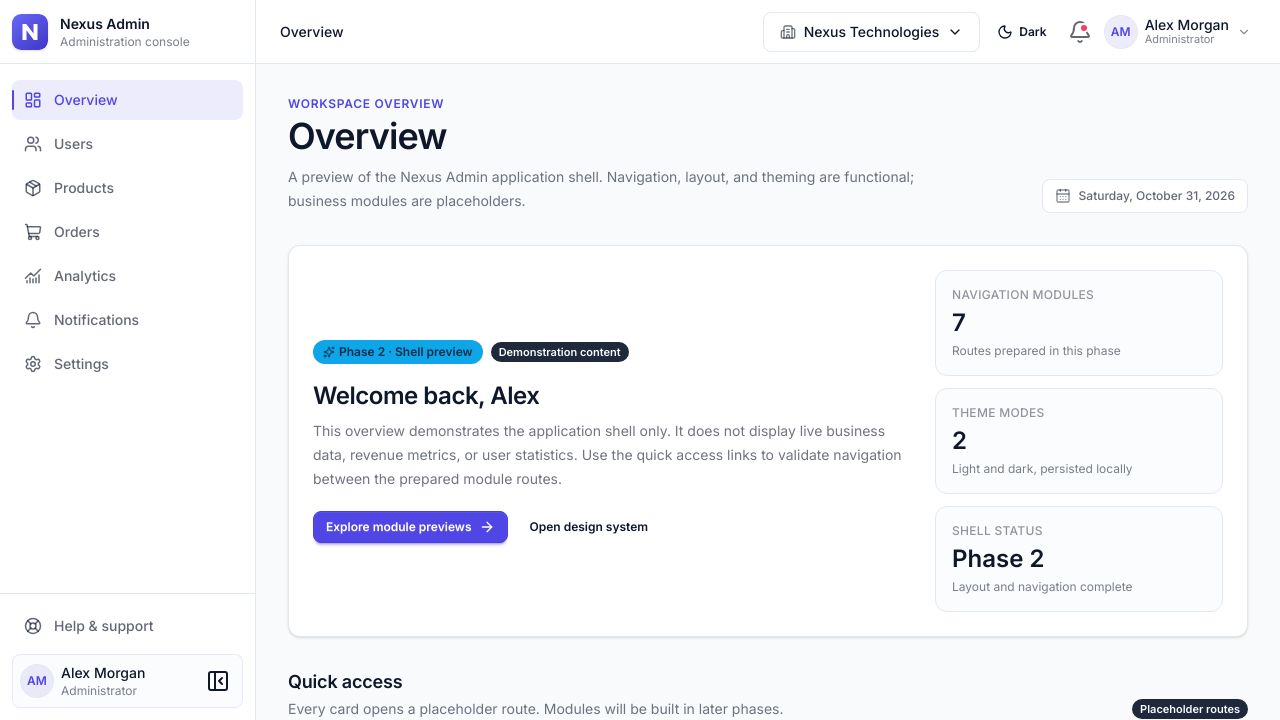
Test: DashboardLayout › opens and closes the profile menu with Escape
This screenshot has width=1280, height=720.
Expected: the heading "Overview" is shown, [288,114,447,158]
Click the button with aria-label "Open user menu for Alex Morgan".
click(1178, 32)  # box [1100,12,1256,52]
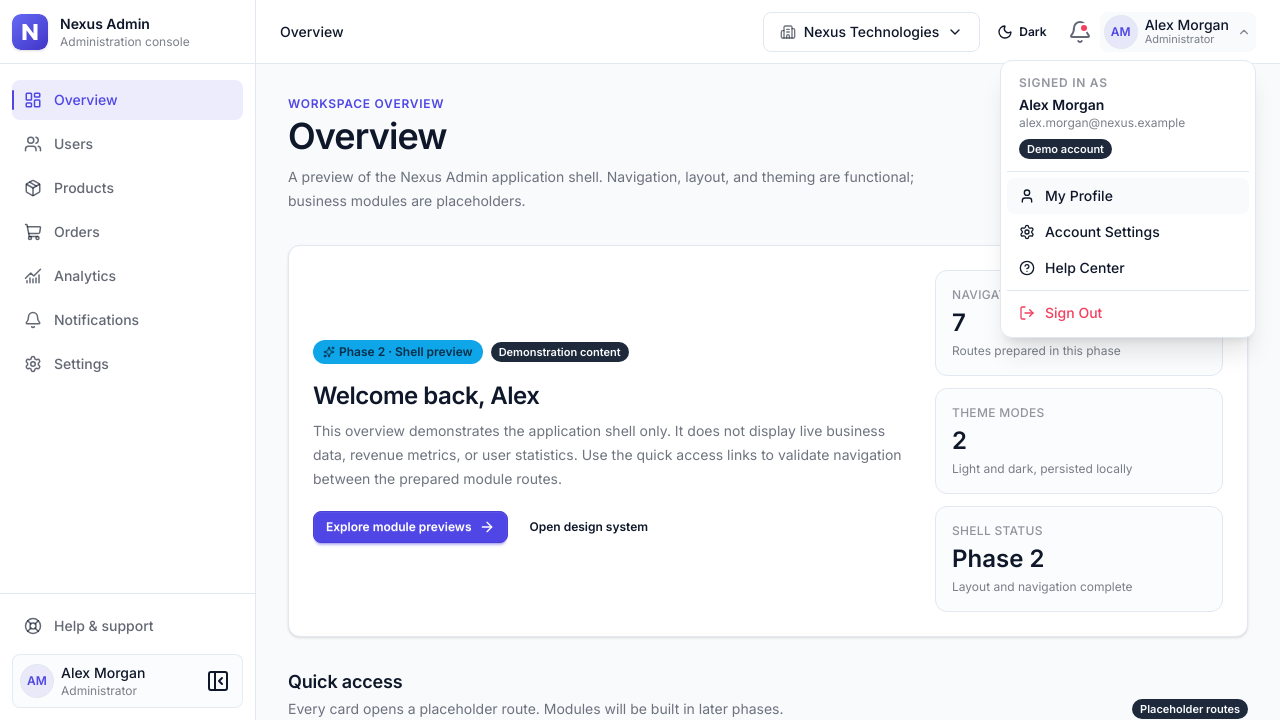
Now the menu is shown, box [1007,172,1249,331]
Now the menu item "My Profile" is shown, box [1007,178,1249,214]
Now the menu item "Account Settings" is shown, box [1007,214,1249,250]
Press Escape
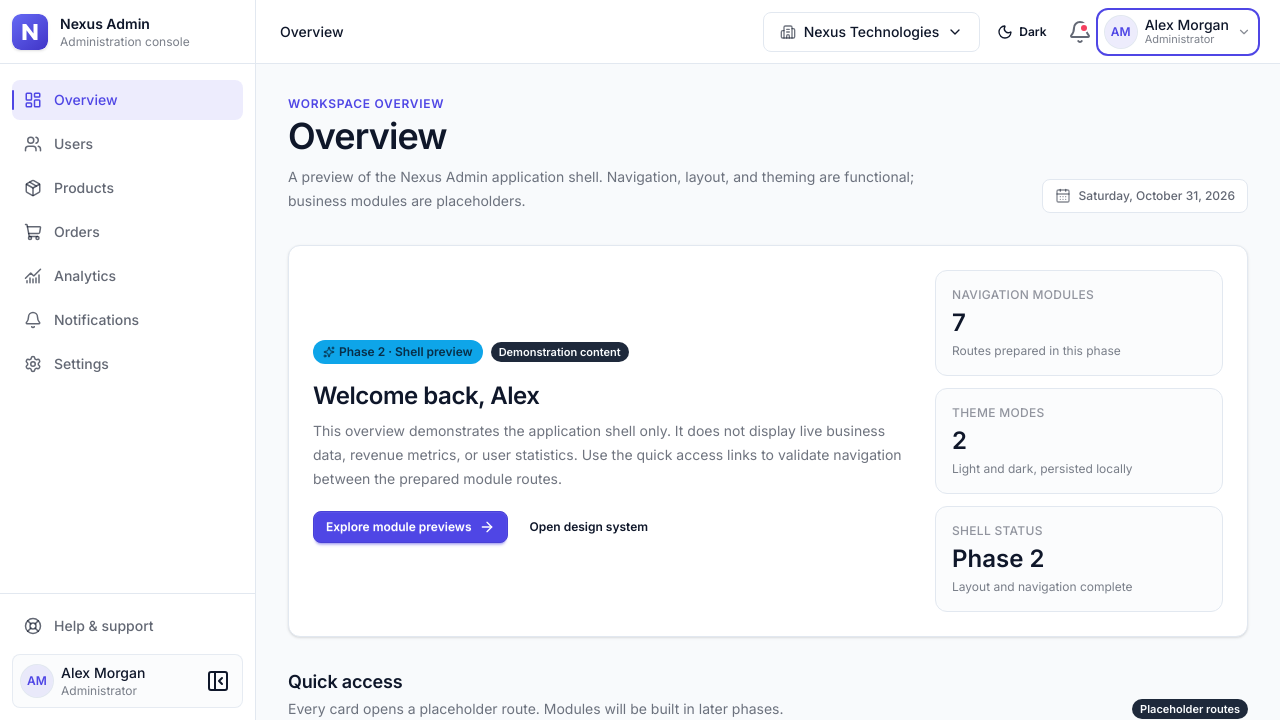
Now the menu is gone
